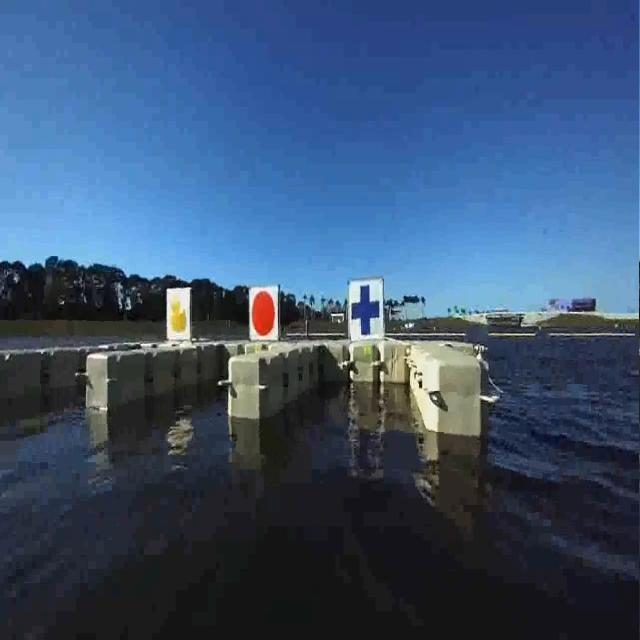blue-cross: (350, 278, 384, 342)
red-dot: (246, 286, 282, 340)
yellow-duck: (162, 280, 193, 343)
